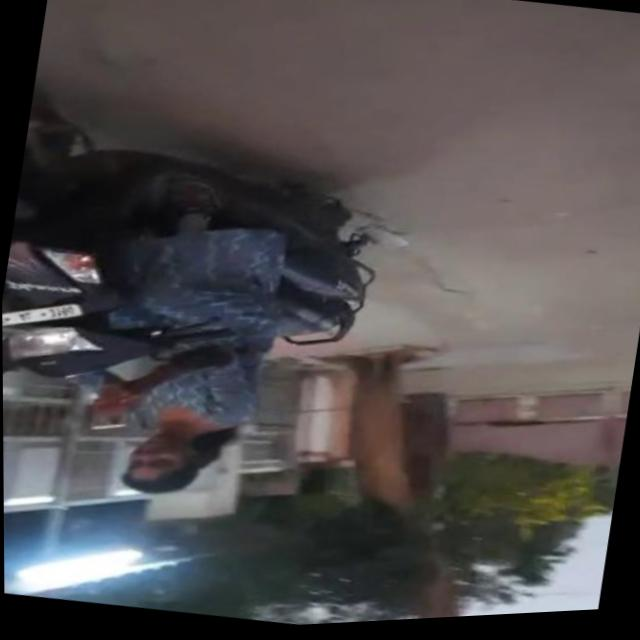USING_MOBILE: (56, 325, 276, 529)
